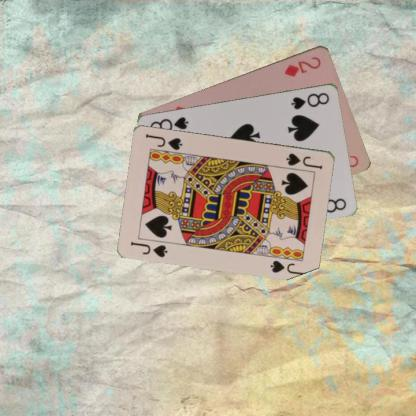2d: (282, 54, 322, 78)
8s: (289, 90, 331, 110)
Js: (284, 150, 324, 171), (128, 239, 170, 258)
